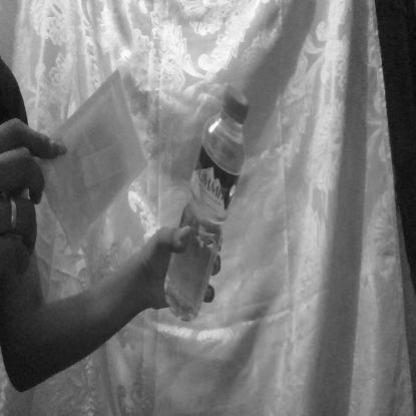Plastic Bottle: (154, 65, 276, 363)
